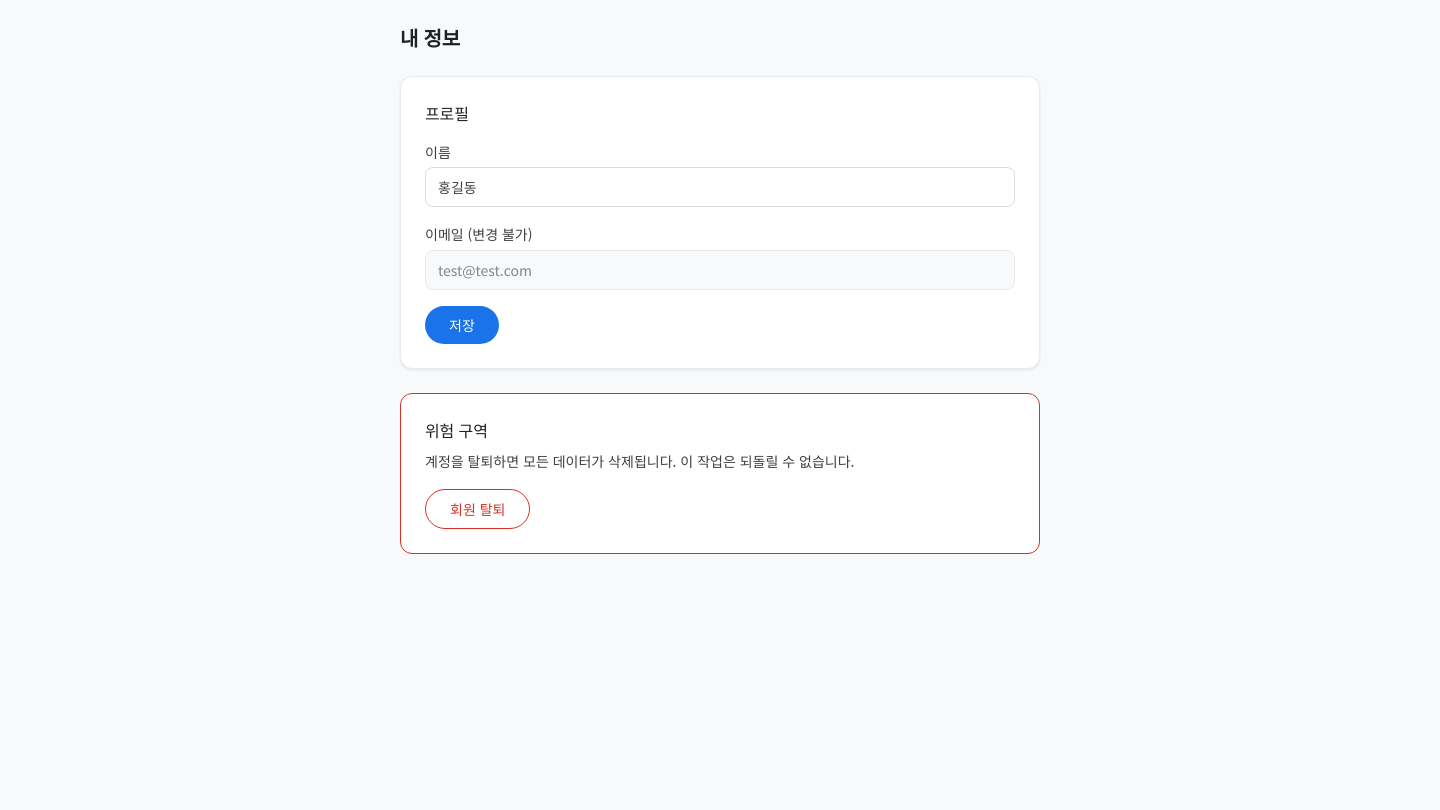
Test: ProfilePage › 회원 탈퇴 버튼 클릭 시 확인 Modal이 열린다
Click the button "회원 탈퇴" at (478, 509), box [425, 489, 530, 529]
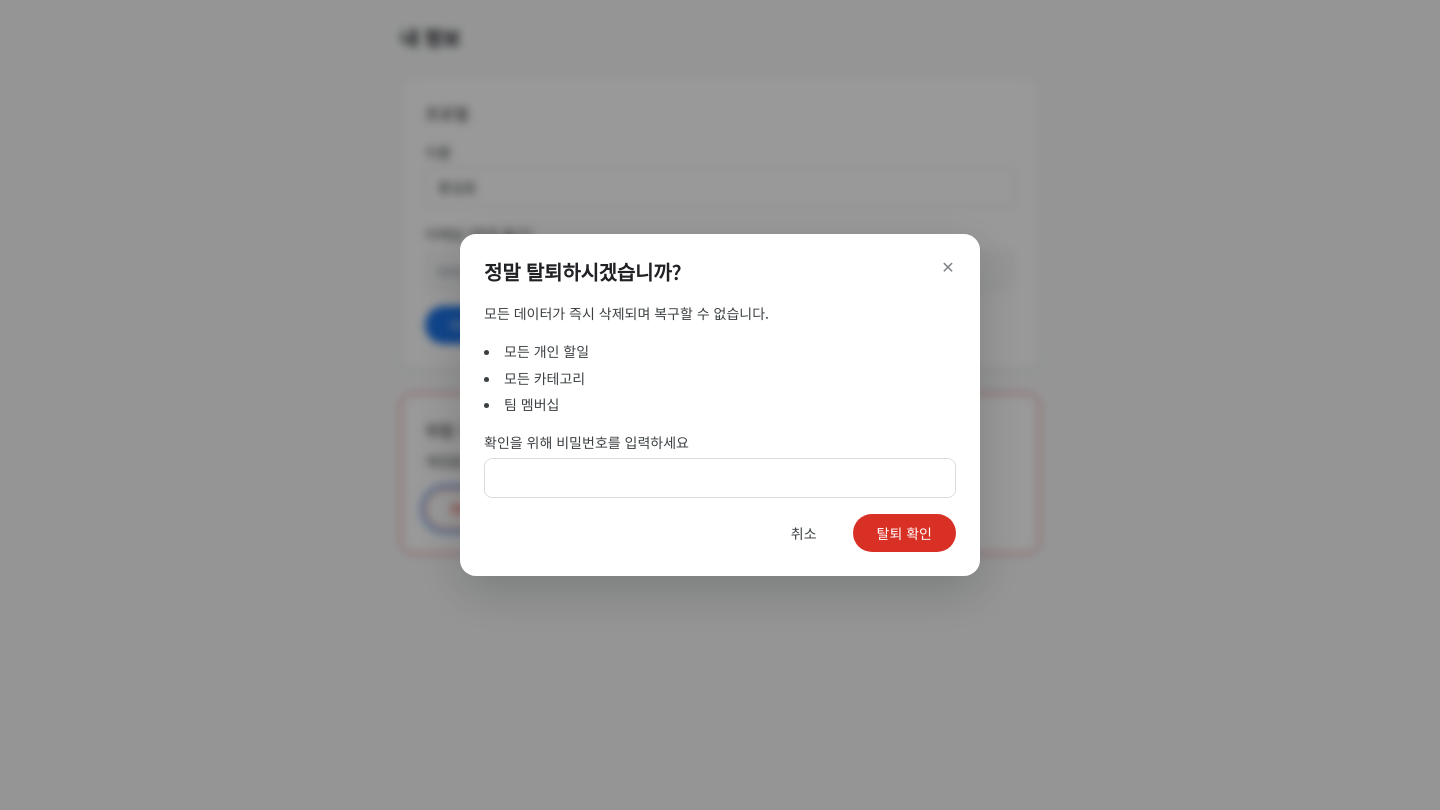
Now the dialog is shown, box [460, 234, 980, 576]
Now the text "모든 데이터가 즉시 삭제되며 복구할 수 없습니다." is shown, box [484, 303, 769, 323]
